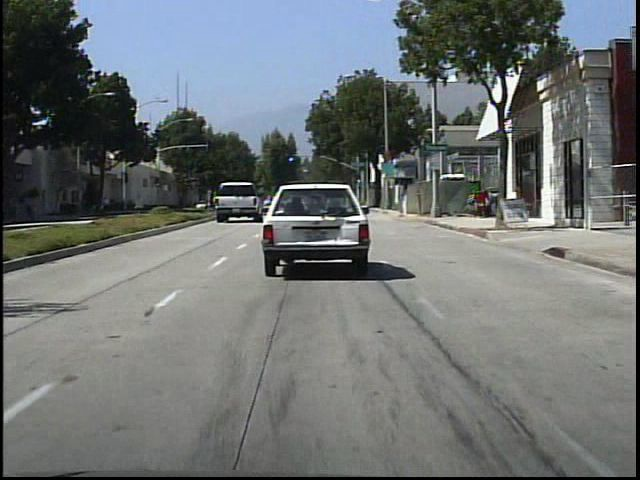person: (23, 195, 42, 226)
